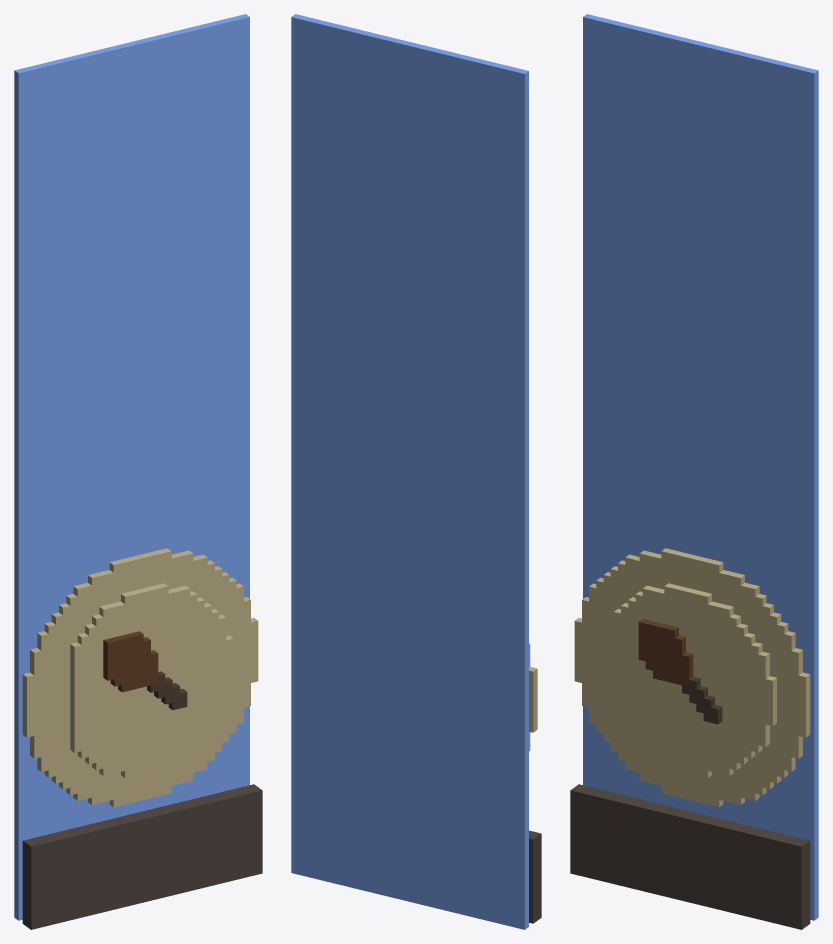
Rendered from scene_meat_on_plate.glb.
The picture shows the model from 3 angles, left to right: view 1: azimuth 30°, elevation 25°; view 2: azimuth 150°, elevation 25°; view 3: azimuth 330°, elevation 25°; orthographic projection.
Visible parts, largest first — view 1: scene_meat_plate_33, scene_meat_plate_34; view 2: scene_meat_plate_33, scene_meat_plate_34; view 3: scene_meat_plate_33, scene_meat_plate_34.
Boxes of the visible parts, x1,y1,x2,y2 form: scene_meat_plate_33: (14,14,249,920); scene_meat_plate_34: (22,548,262,929); scene_meat_plate_33: (291,14,528,929); scene_meat_plate_34: (529,643,541,923); scene_meat_plate_33: (583,14,818,920); scene_meat_plate_34: (570,548,810,929).
Bounding box in the file's own units: 3.2 × 11.2 × 0.5.
Materials: 1 (1 with a texture image).
